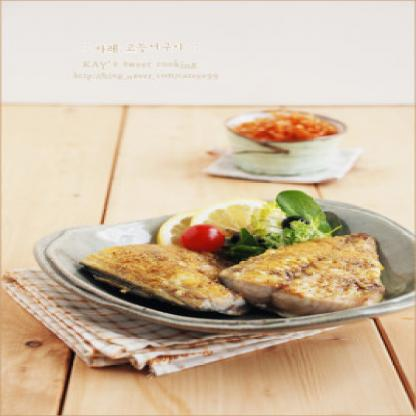Peixe: (231, 234, 393, 316), (80, 253, 245, 312)
